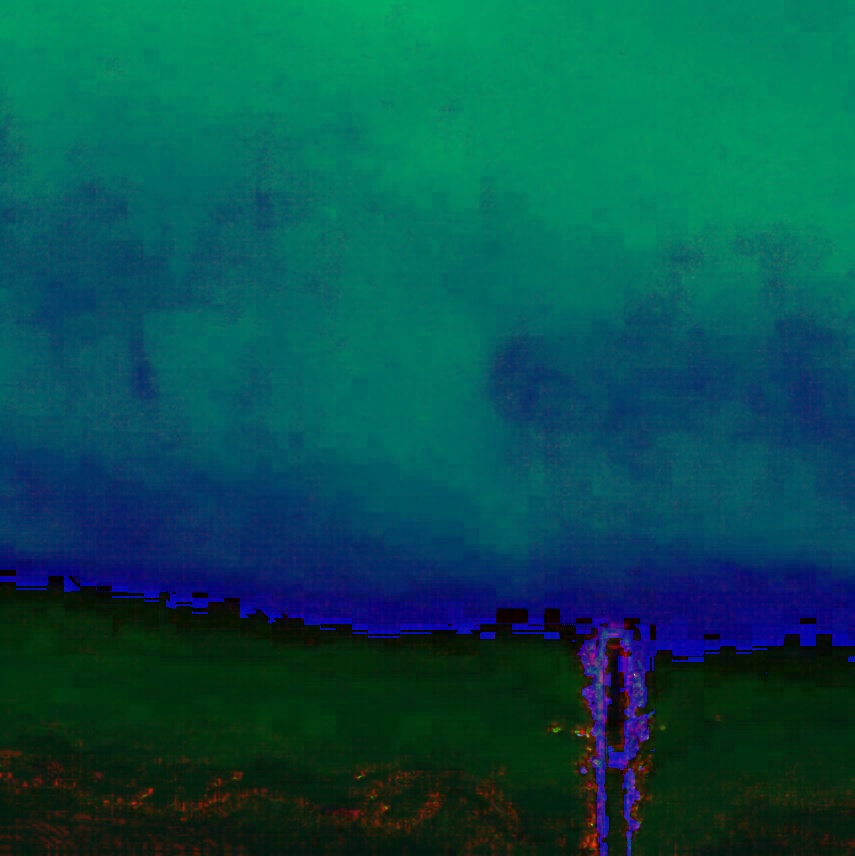rip_current: (273, 153, 547, 574)
